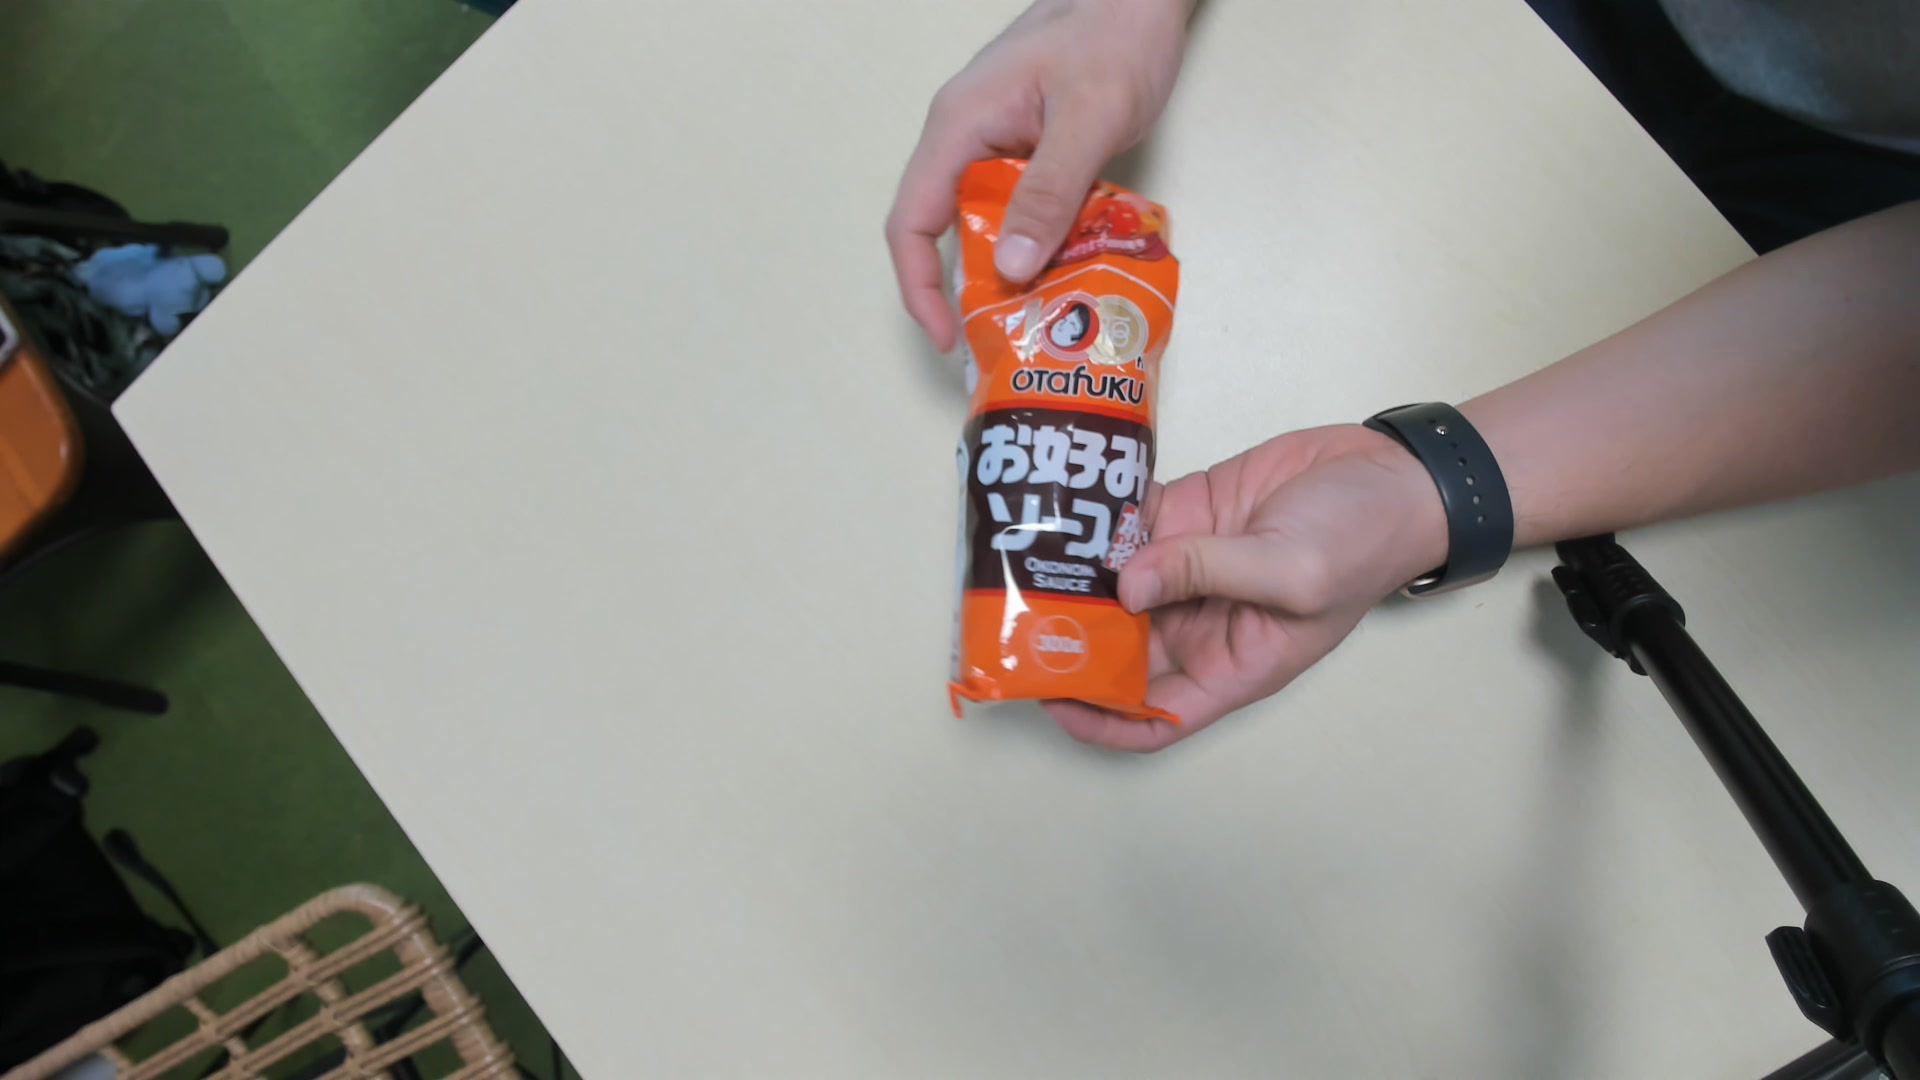OtherSauceDressing_300-399g_NonHalal_NonHealthy: (952, 152, 1168, 731)
